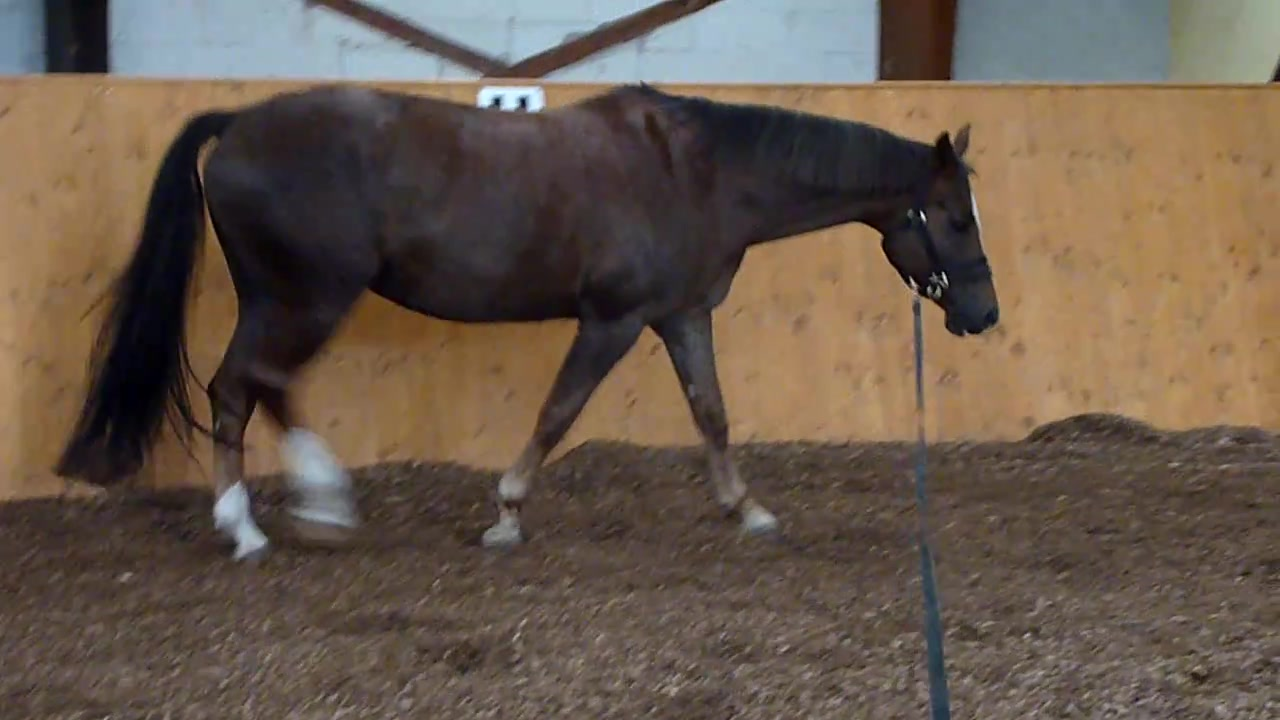horse: (50, 77, 1003, 574)
